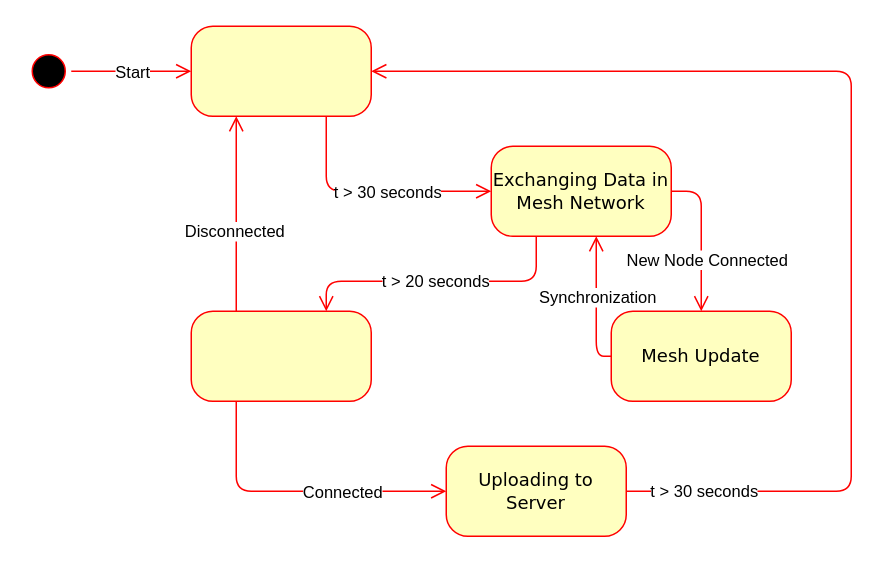
Some shapes in this 893 by 563 pixel diagram are drawn without their labels. Here are the shapes that lost their labels. From the top down, the centre of each, then its label:
At point (280, 70): "WiFi Scanning".
At point (280, 355): "Connecting to WiFi".
